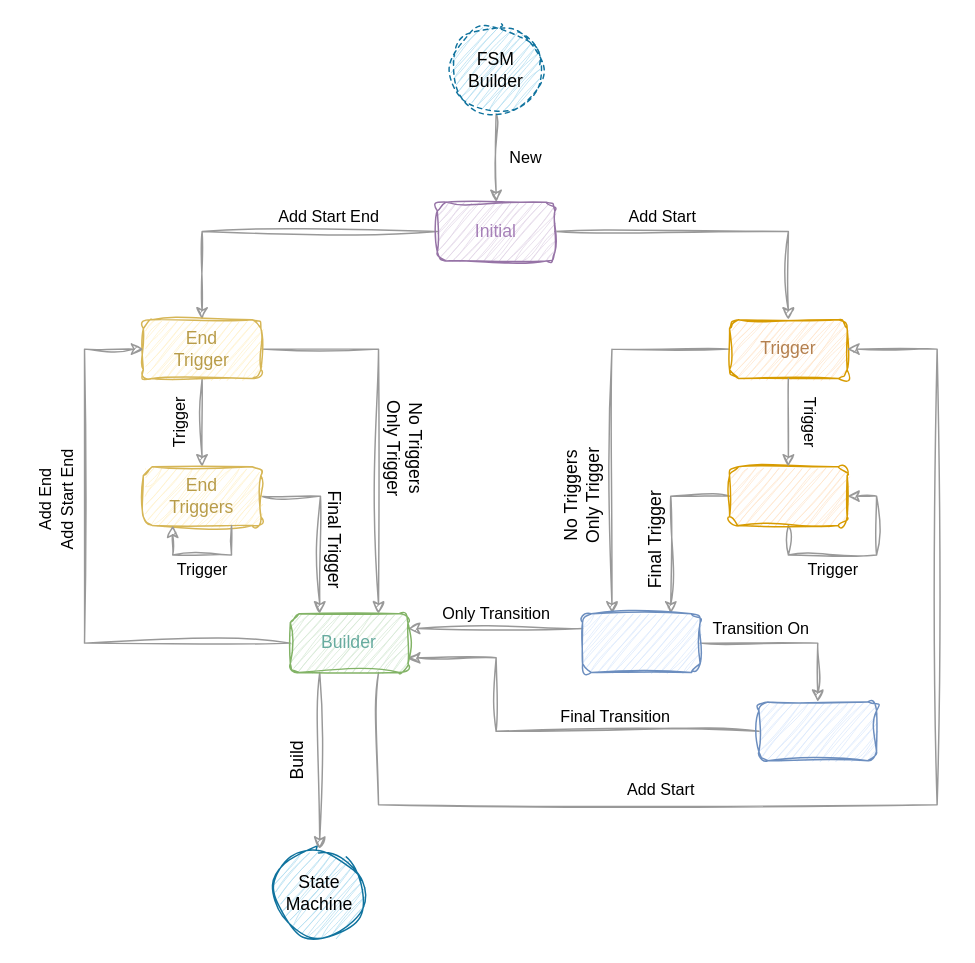
Image size: 975x963. Some labels were removed from this diagram. Here are the shapes that lost their labels. From the top down, the centre of each, then its label:
pixel 787 495: Triggers
pixel 640 642: Transitiion
pixel 817 730: Transitions
